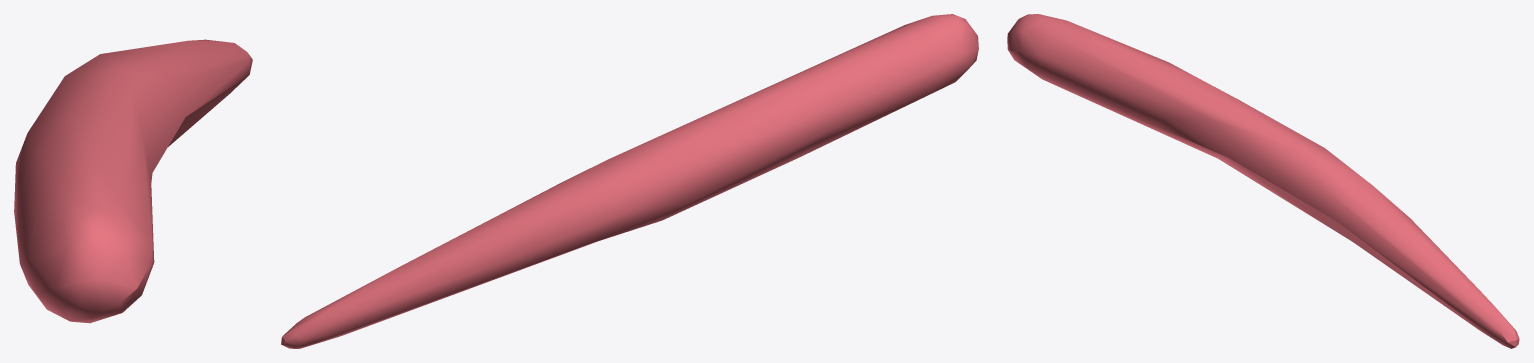
The model's file is fma8675_fj6012.glb.
3 renders of one model, left to right at view 1: azimuth 30°, elevation 25°; view 2: azimuth 150°, elevation 25°; view 3: azimuth 270°, elevation 25°, orthographic. The views are drawn at different scales.
Parts seen in each view (by area): view 1: FMA8675_FJ6012; view 2: FMA8675_FJ6012; view 3: FMA8675_FJ6012.
Boxes of the visible parts, x1,y1,x2,y2 form: FMA8675_FJ6012: (14, 39, 252, 323); FMA8675_FJ6012: (281, 14, 978, 348); FMA8675_FJ6012: (1007, 14, 1519, 348).
Bounding box in the file's own units: 0.0176 × 0.0089 × 0.0229.
